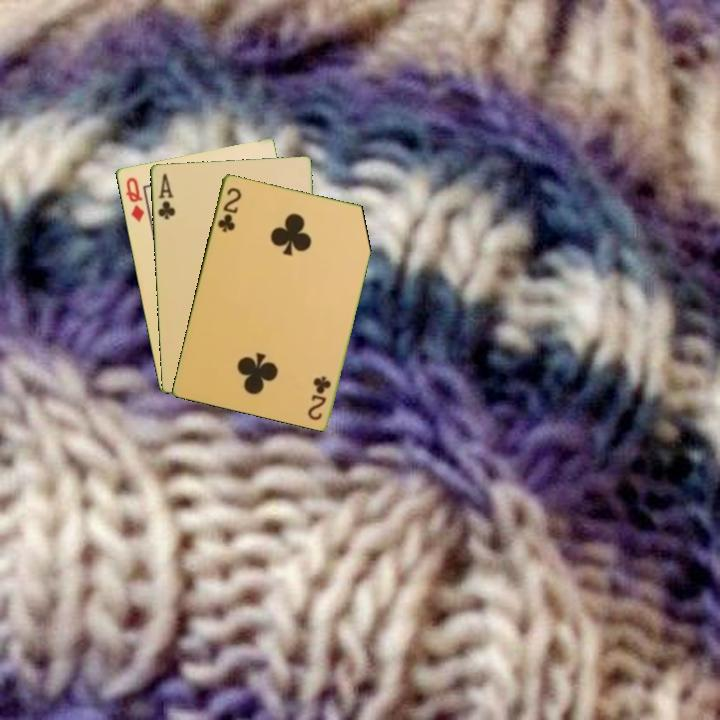2c: (214, 183, 244, 235), (305, 372, 334, 423)
Ac: (154, 170, 177, 222)
Qd: (122, 173, 147, 225)
